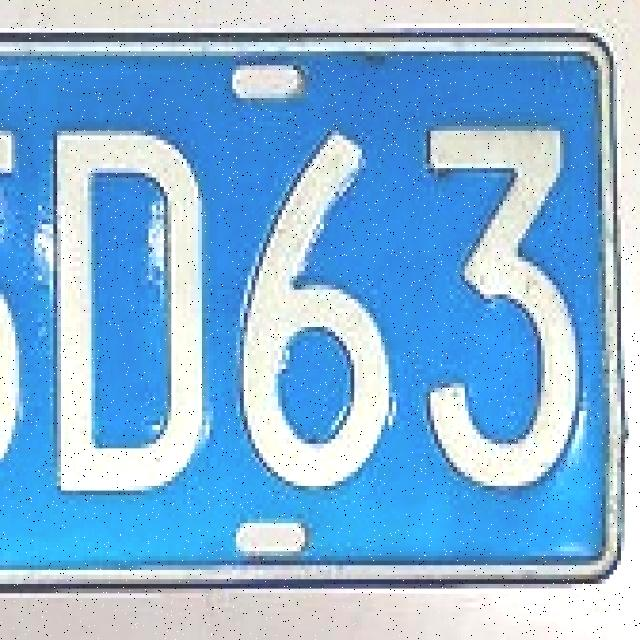licenseplate: (2, 9, 637, 602)
